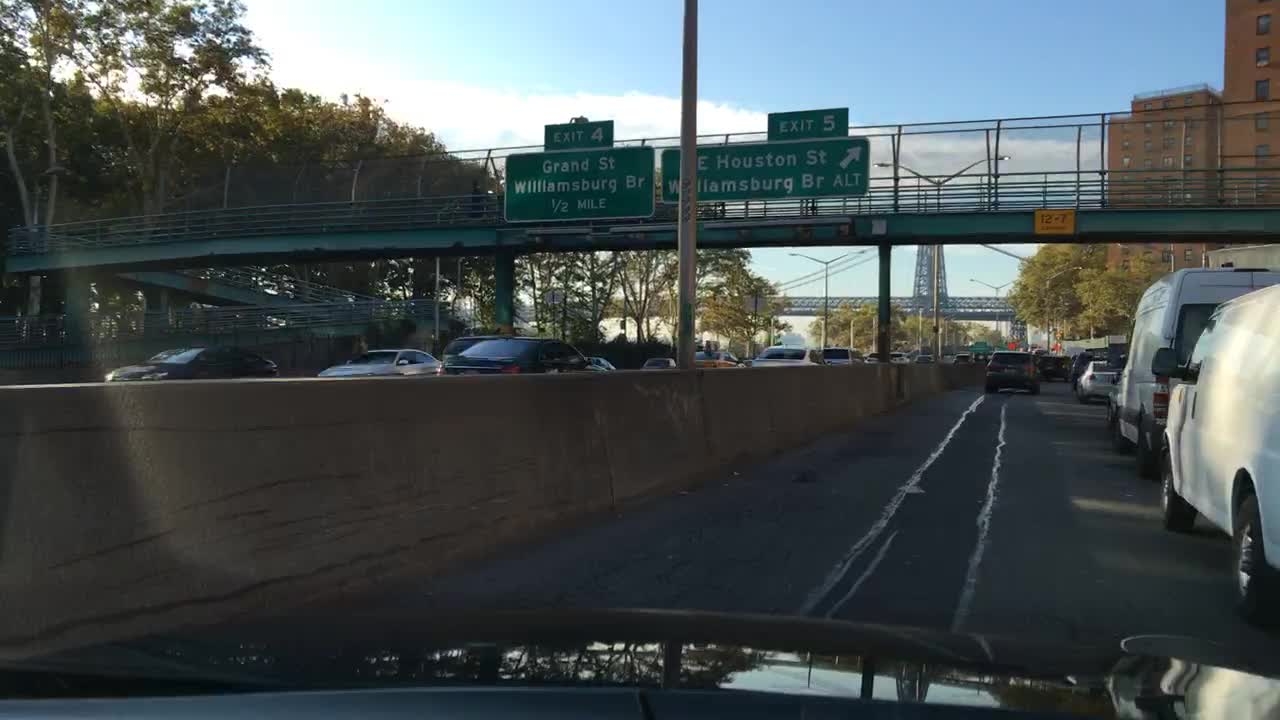car: (1148, 283, 1279, 629), (1105, 267, 1277, 478), (104, 342, 278, 383), (441, 334, 586, 376), (314, 347, 441, 380), (982, 350, 1038, 394), (1076, 359, 1119, 403), (441, 336, 502, 362), (752, 343, 820, 366), (1068, 351, 1094, 389), (820, 345, 861, 368), (694, 348, 740, 366), (1039, 354, 1070, 380), (638, 356, 675, 368), (589, 356, 617, 371), (887, 347, 910, 362), (913, 353, 936, 365), (1029, 347, 1047, 360), (954, 353, 971, 365), (864, 353, 878, 362)
traffic sign: (658, 134, 872, 200), (502, 145, 652, 224), (765, 108, 847, 137), (542, 120, 614, 149), (1032, 206, 1075, 235), (870, 218, 887, 236), (972, 340, 987, 354)
